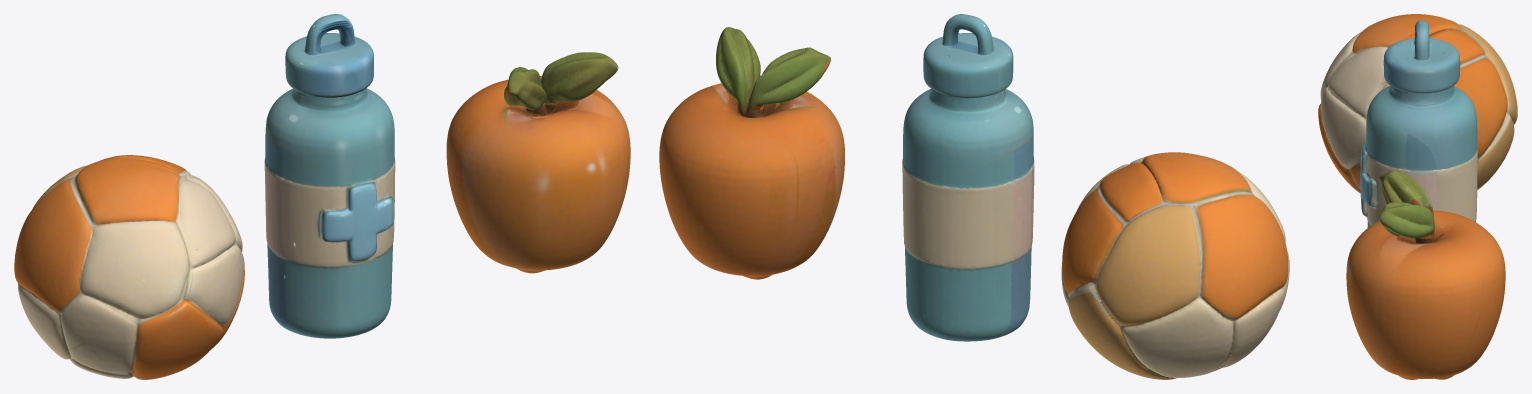
File: Prevention.glb
3 views of the same model, side by side, from view 1: azimuth 30°, elevation 25°; view 2: azimuth 150°, elevation 25°; view 3: azimuth 270°, elevation 25° (orthographic). The views are drawn at different scales.
Size of the model in its own units: 2 by 0.9811 by 0.6769.
1 material, 1 textured.
